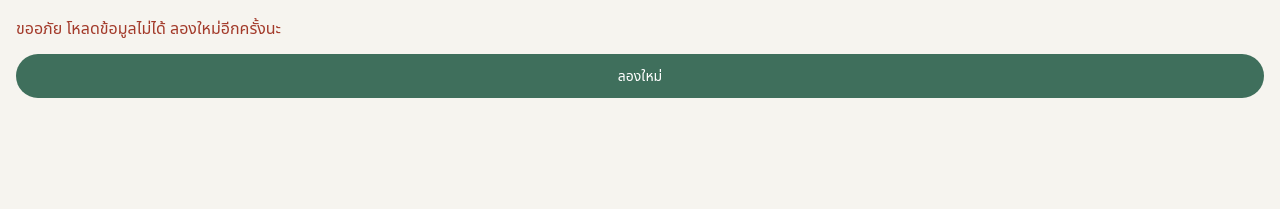
load error shows retry which refetches
Check: the message "ขออภัย โหลดข้อมูลไม่ได้ ลองใหม่อีกครั้งนะ" is shown, box x1=16 y1=17 x2=281 y2=39
Click the button "ลองใหม่" at (640, 76), box x1=16 y1=54 x2=1264 y2=98
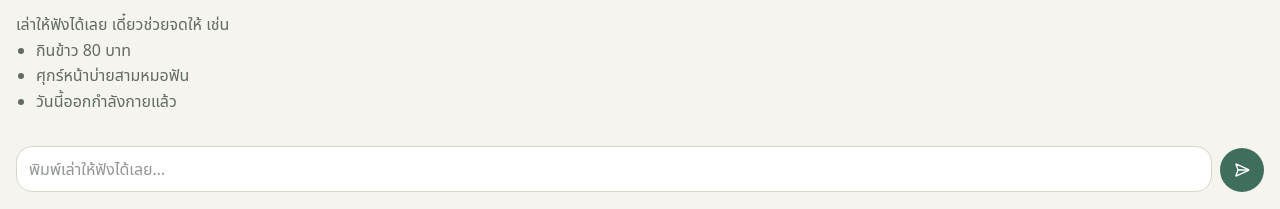
Check: the list is shown, box x1=16 y1=13 x2=229 y2=112
